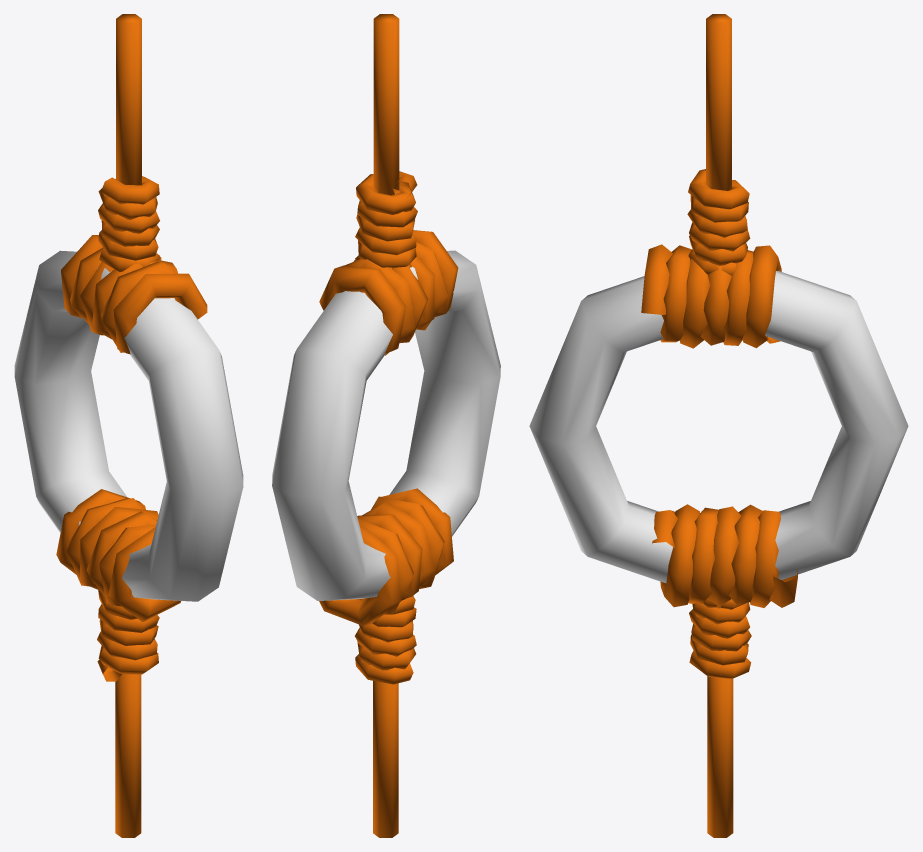
File: aimpoint.fbx
3 views of the same model, side by side, from view 1: azimuth 30°, elevation 25°; view 2: azimuth 150°, elevation 25°; view 3: azimuth 270°, elevation 25° (orthographic).
Visible parts, largest first — view 1: Cube; view 2: Cube; view 3: Cube.
Boxes of the visible parts, box(x1,y1,x2,y2) form: Cube: box(14, 14, 243, 837); Cube: box(272, 14, 500, 837); Cube: box(529, 14, 908, 837).
Size of the model in its own units: 49.91 by 428 by 180.
